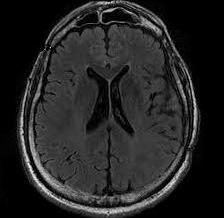Normal_Brain: (1, 1, 208, 218)
